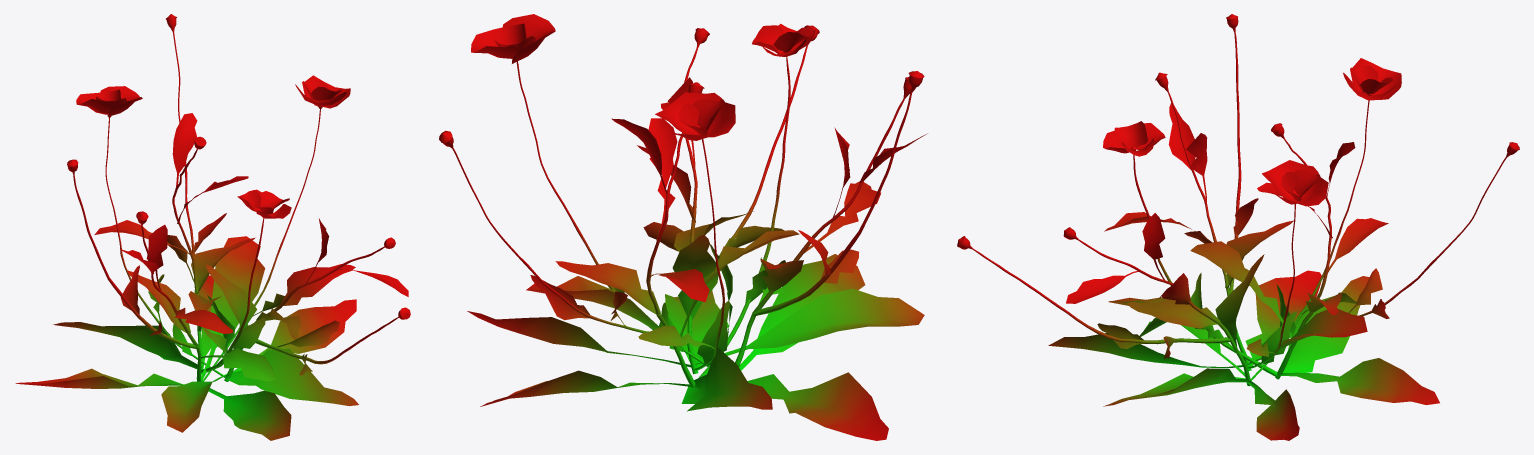
File: Field Poppy_LOD0_Var4_vmcobd0ja.fbx
3 renders of one model, left to right at view 1: azimuth 30°, elevation 25°; view 2: azimuth 150°, elevation 25°; view 3: azimuth 270°, elevation 25°, orthographic. The views are drawn at different scales.
Visible parts, largest first — view 1: _0j3f_Var4_LOD0; view 2: _0j3f_Var4_LOD0; view 3: _0j3f_Var4_LOD0.
Part boxes in pixels (x1,y1,x2,y2): _0j3f_Var4_LOD0: (15, 14, 410, 440); _0j3f_Var4_LOD0: (439, 14, 927, 440); _0j3f_Var4_LOD0: (957, 14, 1519, 440).
Size of the model in its own units: 55.37 by 42.47 by 75.6.
